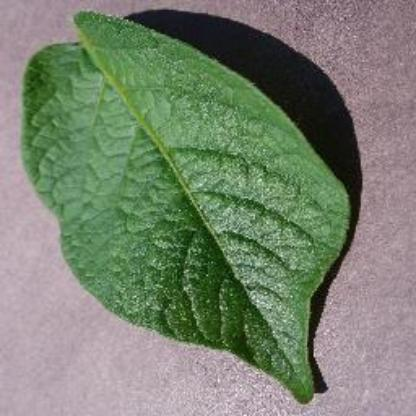Healthy-plant: (9, 9, 406, 401)
